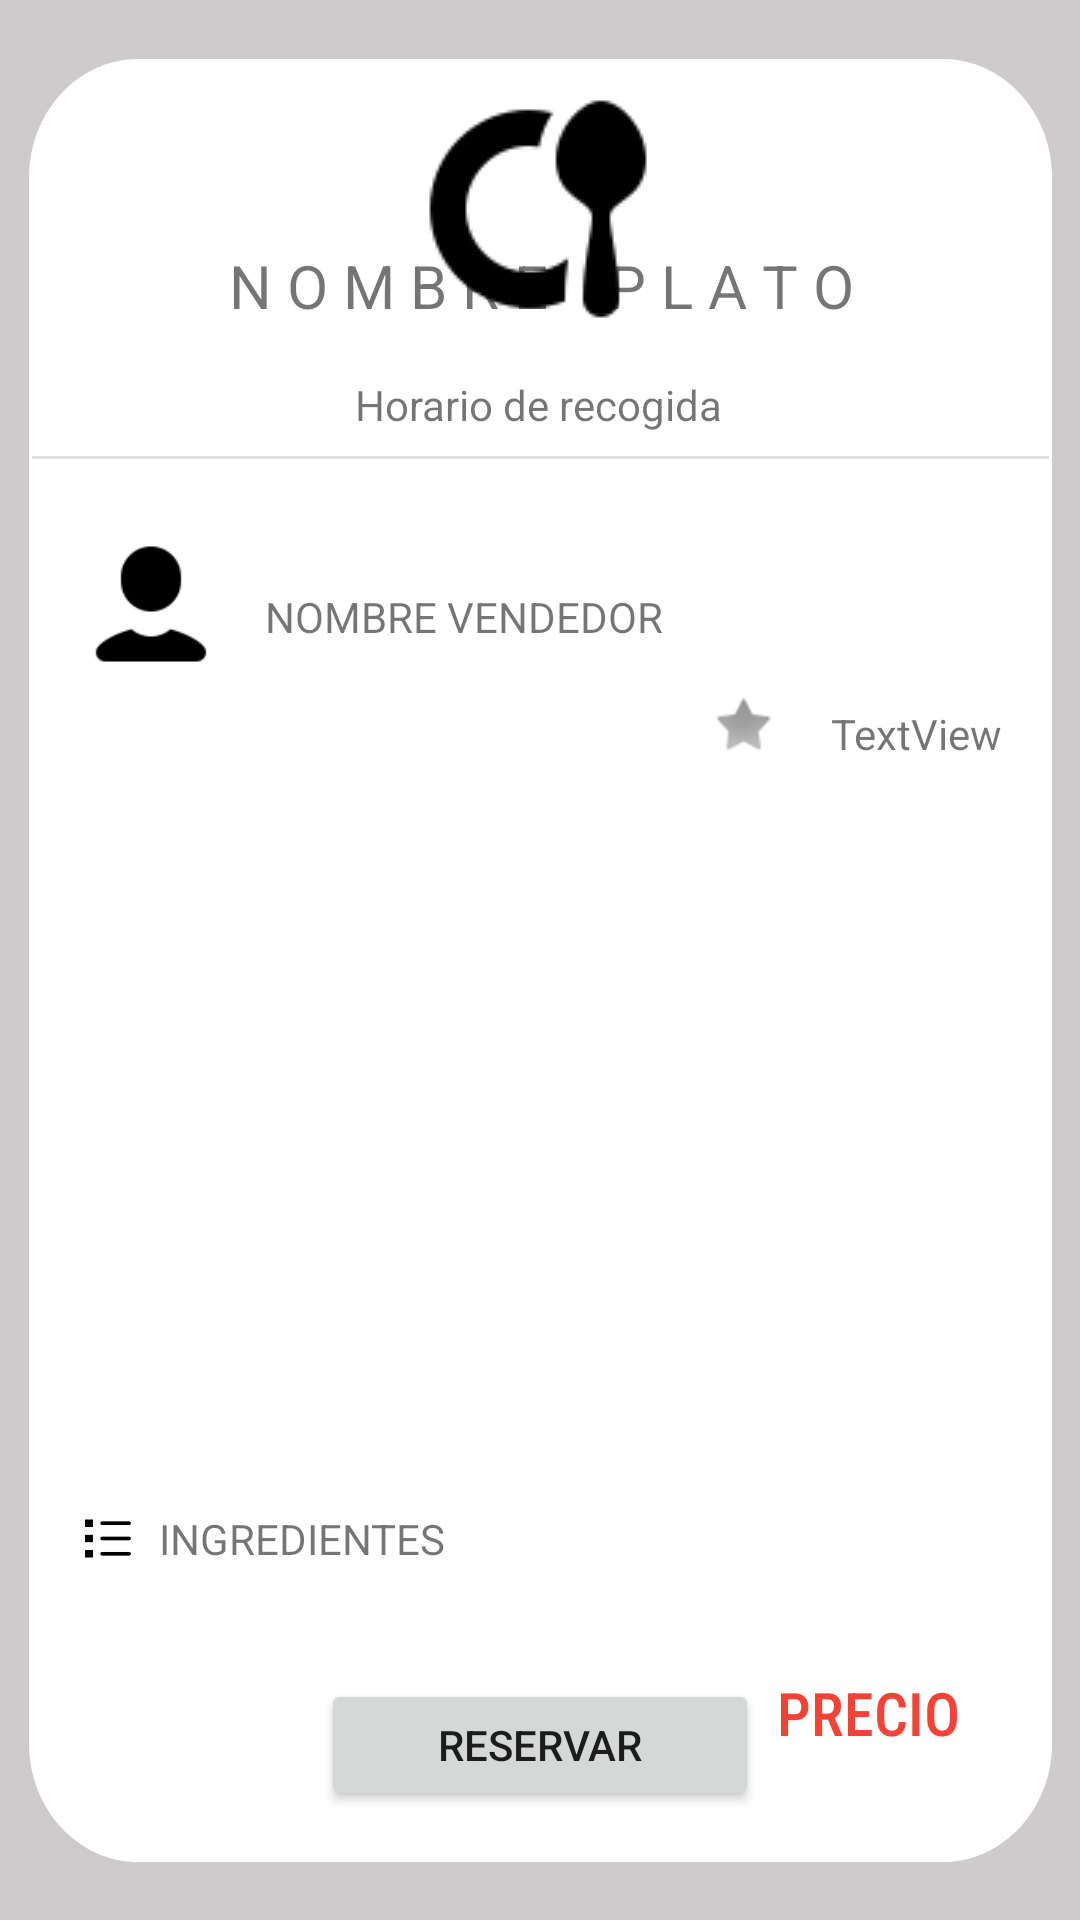

Icons on this 1080w x 1920h Android screen, each with its box as (x1, y1, x2, y2):
dish: (415, 100, 647, 318)
lista: (85, 1519, 131, 1558)
user: (95, 546, 207, 662)
